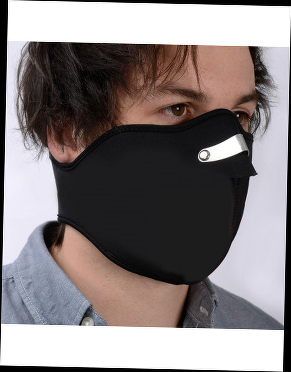with_mask: (77, 77, 257, 288)
